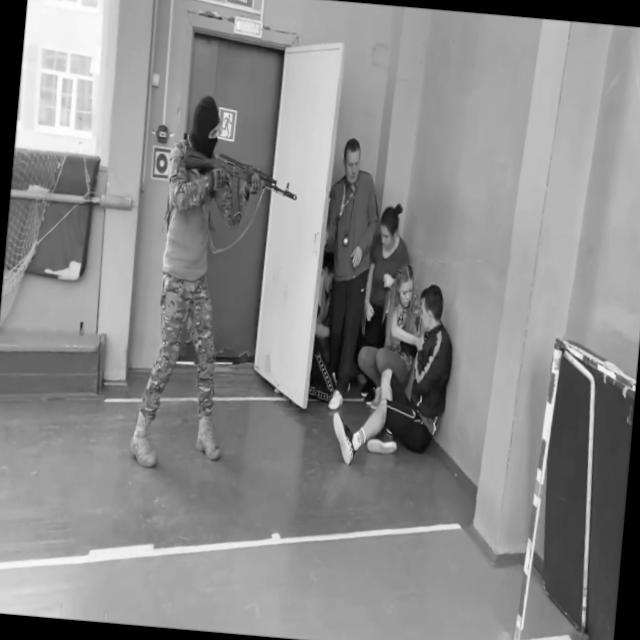gun: (177, 140, 302, 232)
person: (329, 274, 460, 474), (311, 134, 387, 412), (355, 200, 413, 410), (355, 262, 428, 412)
person with a gun: (128, 89, 306, 481)
